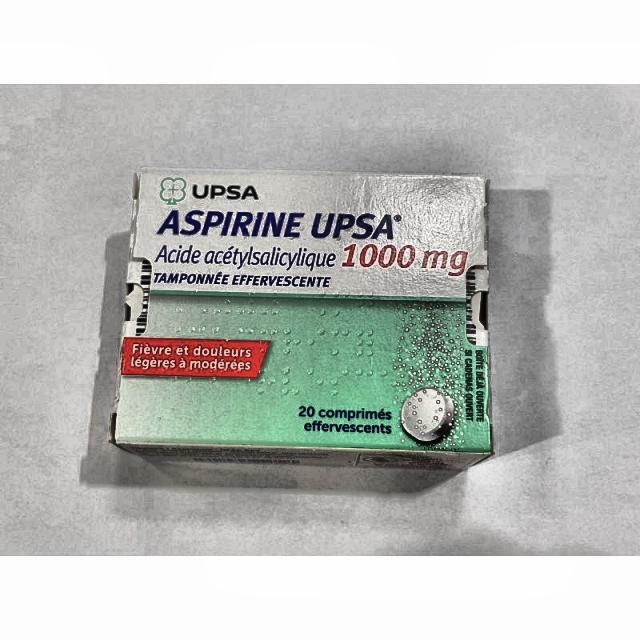Aspirin: (135, 173, 485, 325)
